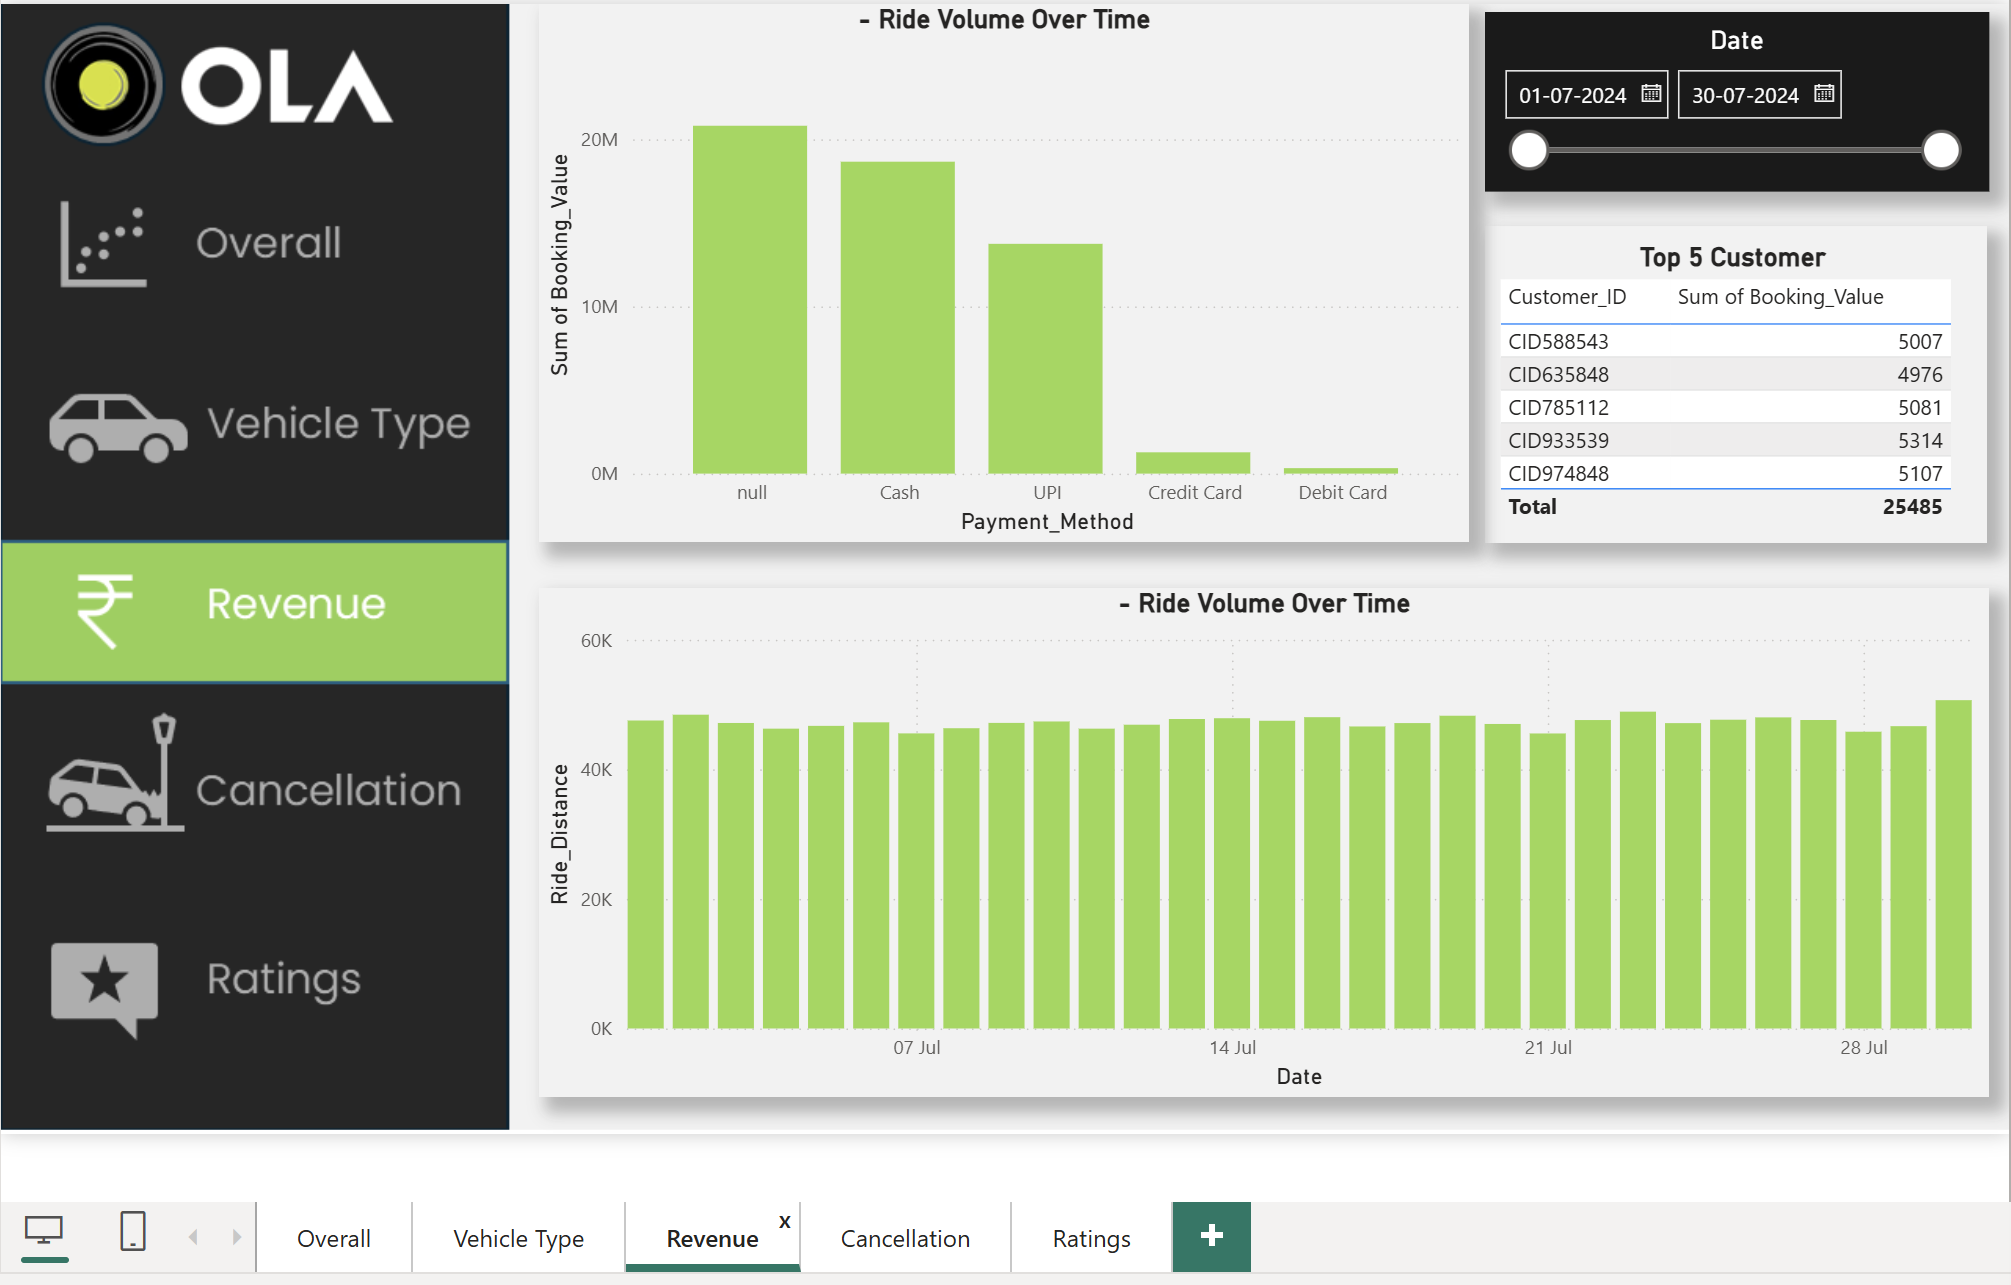

The page's visual inventory and layout, read from the dashboard file:
{"tool":"powerbi","page":{"name":"Revenue","canvas":[1280,720],"ordinal":2},"visuals":[{"type":"actionButton","box":[0,109.2,324.2,86.4],"z":0},{"type":"actionButton","box":[0,222.9,324.2,100.1],"z":1000},{"type":"actionButton","box":[0,440.2,324.2,105.8],"z":2000},{"type":"actionButton","box":[0,583.5,324.2,104.6],"z":3000},{"type":"columnChart","title":"-\tRide Volume Over Time","fields":{"Y":["Sum(Bookings_OLA_Dataset.Ride_Distance)"],"Category":["Bookings_OLA_Dataset.Date"]},"box":[342.9,372.9,924.3,324.3],"z":4000},{"type":"columnChart","title":"-\tRide Volume Over Time","fields":{"Category":["Bookings_OLA_Dataset.Payment_Method"],"Y":["Sum(Bookings_OLA_Dataset.Booking_Value)"]},"box":[342.9,0,592.9,342.9],"z":5000},{"type":"slicer","title":"Date","fields":{"Values":["Bookings_OLA_Dataset.Date"]},"box":[945.7,5.7,321.4,114.3],"z":6000},{"type":"tableEx","title":"Top 5 Customer","fields":{"Values":["Bookings_OLA_Dataset.Customer_ID","Sum(Bookings_OLA_Dataset.Booking_Value)"]},"box":[946.5,142.1,320,201.9],"z":7000}]}

Visuals, with their boxes on the page's 1280x720 design canvas (x1, y1, x2, y2). These are canvas units, not pixel positions in the 2011x1285 screenshot, which may show the page scaled, cropped or inside an application window:
actionButton: 0, 109, 324, 196
actionButton: 0, 223, 324, 323
actionButton: 0, 440, 324, 546
actionButton: 0, 584, 324, 688
"-	Ride Volume Over Time" columnChart: 343, 373, 1267, 697
"-	Ride Volume Over Time" columnChart: 343, 0, 936, 343
"Date" slicer: 946, 6, 1267, 120
"Top 5 Customer" tableEx: 946, 142, 1266, 344
